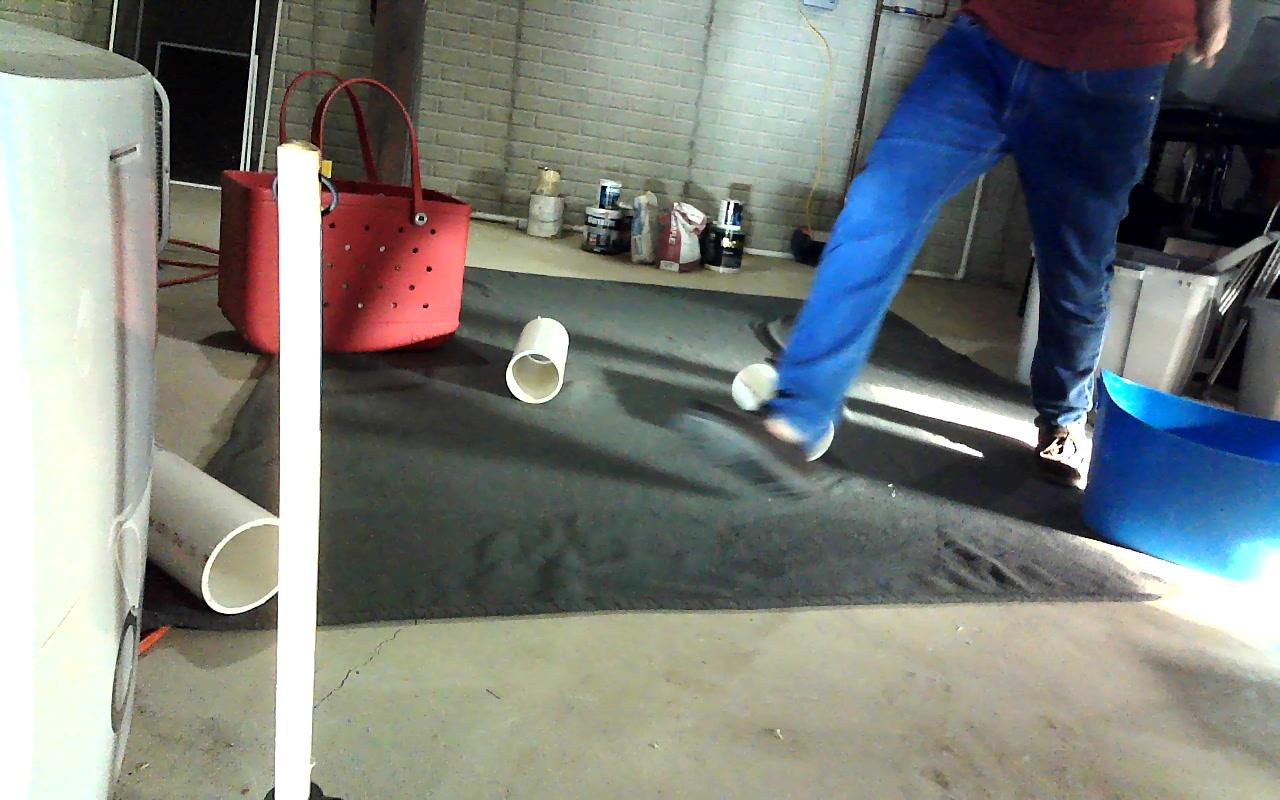coral: (147, 438, 280, 613), (505, 318, 568, 403), (731, 364, 776, 411)
